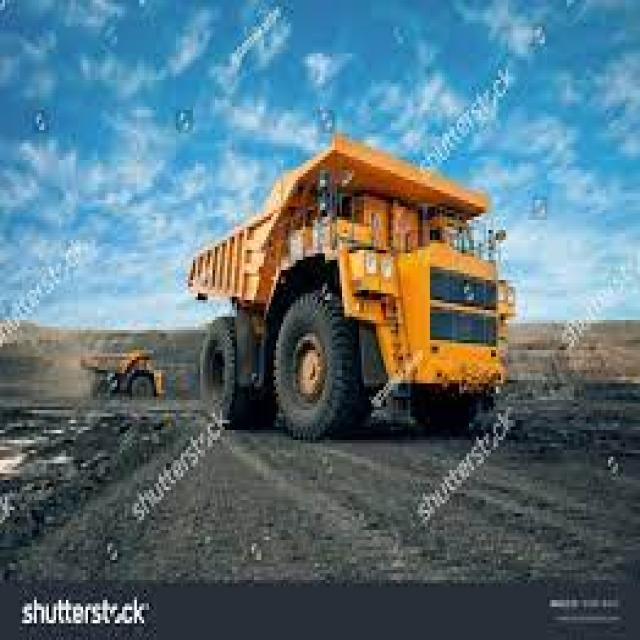dump_truck: (166, 127, 525, 452), (80, 326, 166, 419)
